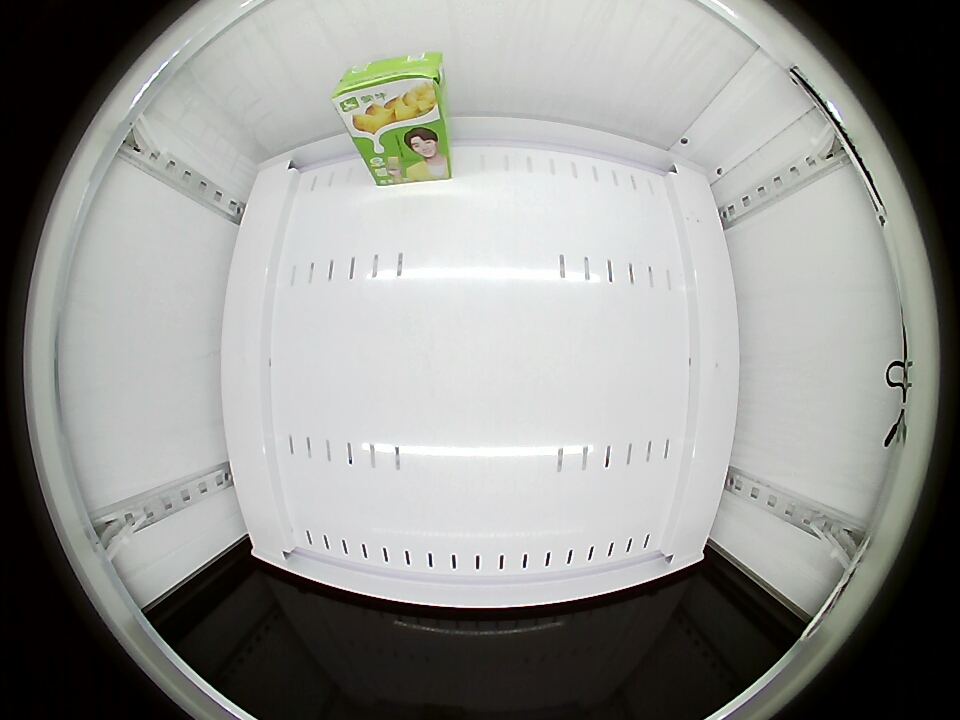mengniuzaocan: (331, 52, 445, 128)
